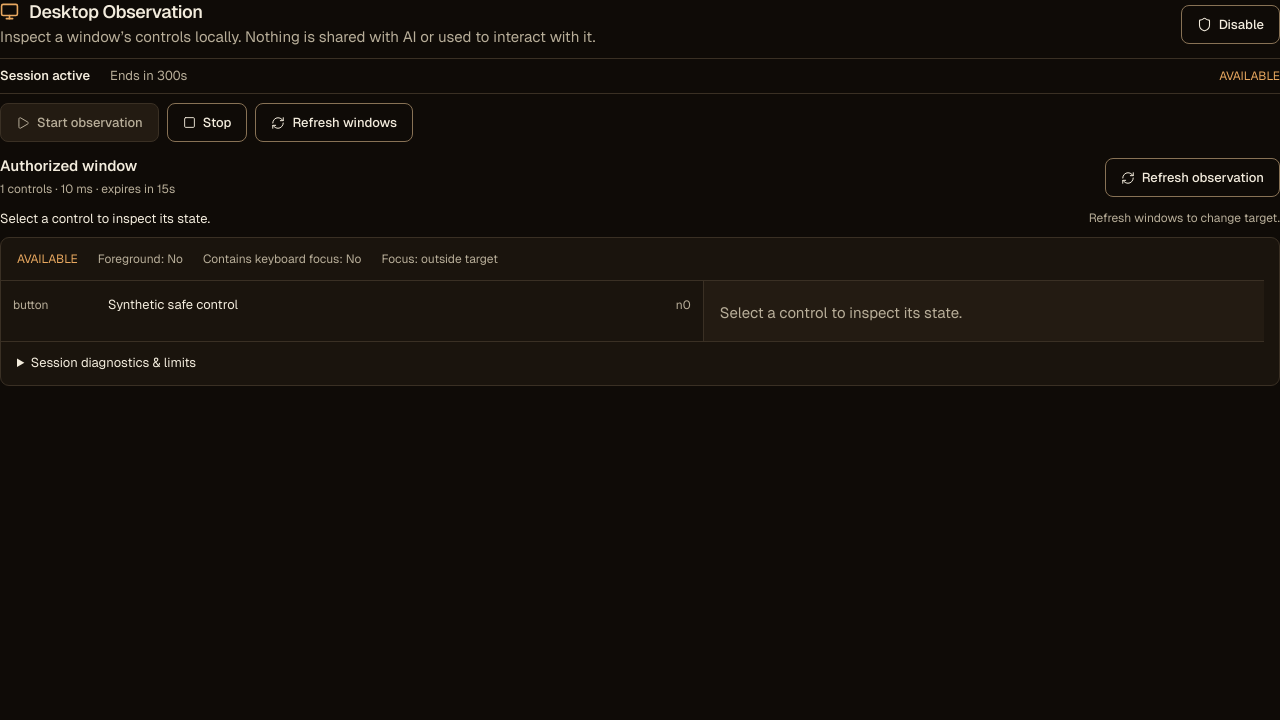
Test: keeps missing-value states distinct and exposes capabilities only as text
Click the button "button Synthetic safe control n0".
click(31, 305)  # box [1,287,703,324]
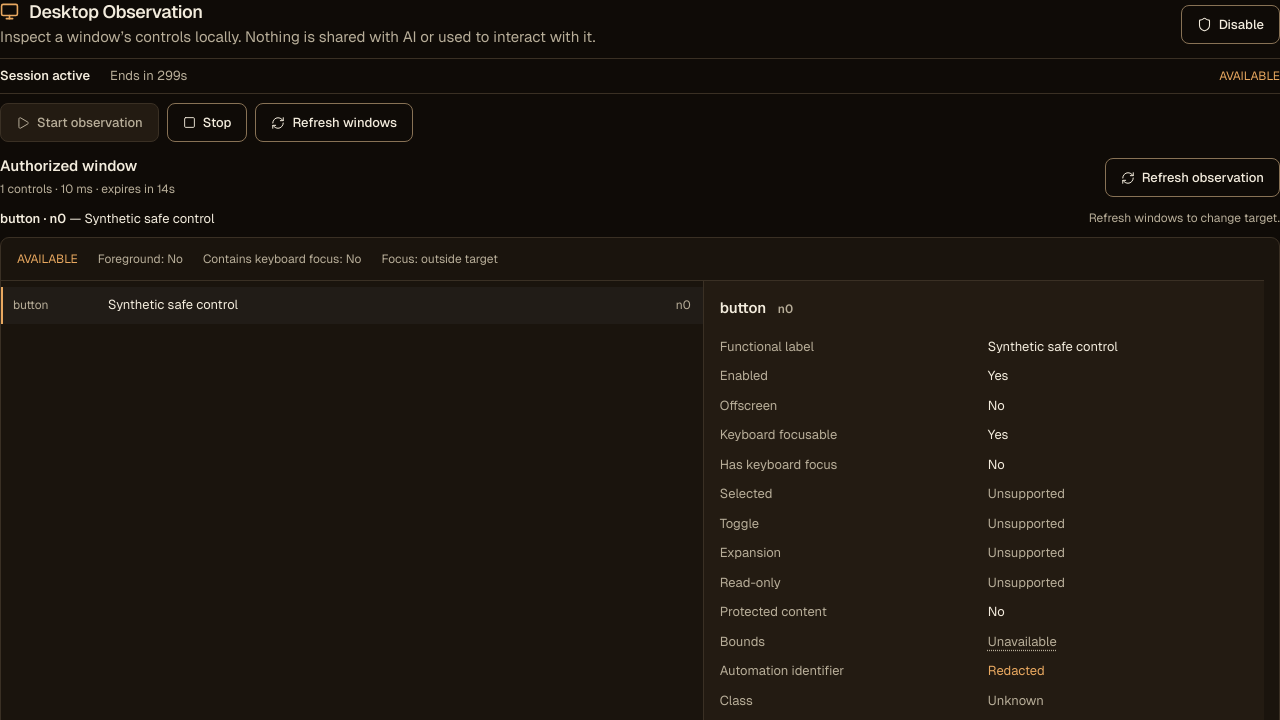
Result: the text "Redacted" is shown at [988,662,1045,679]
Result: the text "Unknown" is shown at [988,692,1044,709]
Result: the text "Unsupported" in the row of "Selected" is shown at [988,485,1065,502]
